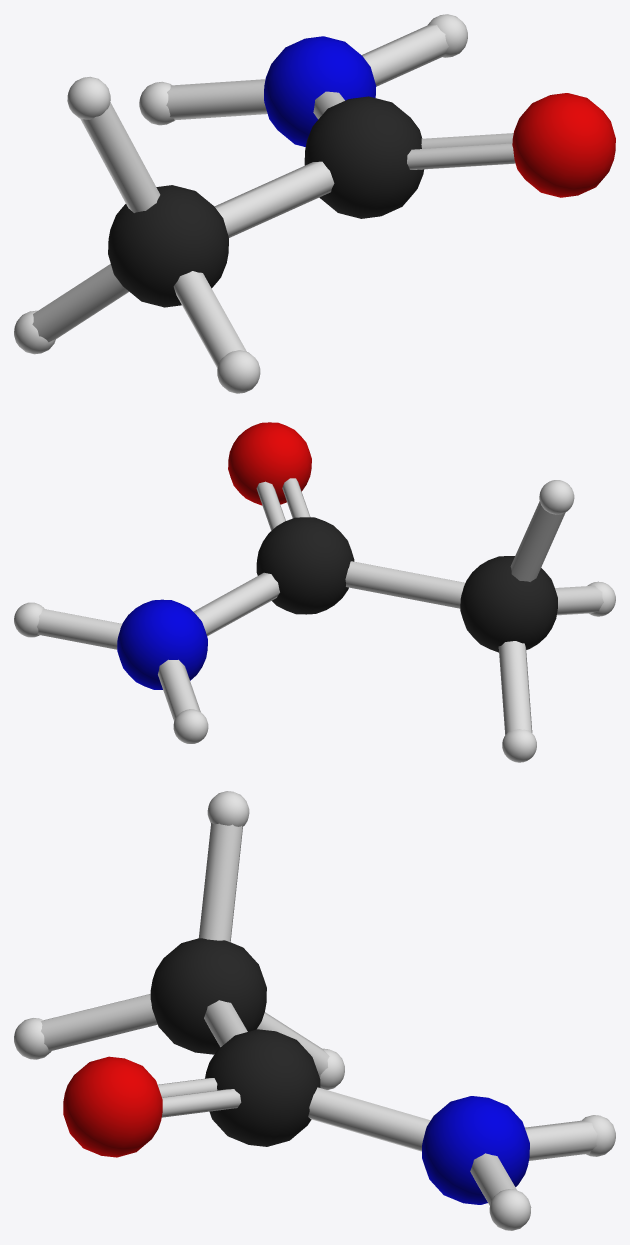
Rendered from Ethanamide.fbx.
3 views of the same model, one above another, from view 1: azimuth 30°, elevation 25°; view 2: azimuth 150°, elevation 25°; view 3: azimuth 270°, elevation 25° (orthographic). The views are drawn at different scales.
Visible parts, largest first — view 1: Group1, Group2, Group3, Group4, Group10, Group14, Group17, Group15, Group16, Group18, Group11, Group7 (+5 smaller); view 2: Group1, Group2, Group4, Group3, Group10, Group15, Group13, Group18, Group14, Group17, Group16, Group5 (+6 smaller); view 3: Group1, Group2, Group4, Group3, Group13, Group14, Group16, Group17, Group12, Group9, Group18, Group5 (+6 smaller).
Boxes of the visible parts, left/top/right/bottom form: Group1: left=304, top=96, right=424, bottom=218; Group2: left=108, top=185, right=228, bottom=307; Group3: left=512, top=93, right=615, bottom=197; Group4: left=264, top=36, right=376, bottom=146; Group10: left=214, top=161, right=334, bottom=237; Group14: left=80, top=102, right=160, bottom=212; Group17: left=166, top=79, right=267, bottom=120; Group15: left=32, top=264, right=129, bottom=342; Group16: left=173, top=271, right=246, bottom=368; Group18: left=361, top=25, right=448, bottom=86; Group11: left=407, top=143, right=515, bottom=169; Group7: left=217, top=350, right=260, bottom=393; Group1: left=256, top=517, right=354, bottom=614; Group2: left=460, top=556, right=557, bottom=652; Group4: left=117, top=599, right=207, bottom=689; Group3: left=228, top=422, right=311, bottom=505; Group10: left=345, top=561, right=465, bottom=608; Group15: left=498, top=641, right=532, bottom=734; Group13: left=193, top=572, right=279, bottom=636; Group18: left=37, top=609, right=122, bottom=649; Group14: left=510, top=501, right=565, bottom=581; Group17: left=158, top=659, right=200, bottom=721; Group16: left=555, top=585, right=603, bottom=615; Group5: left=539, top=480, right=574, bottom=514; Group1: left=205, top=1029, right=320, bottom=1146; Group2: left=150, top=938, right=266, bottom=1054; Group4: left=422, top=1096, right=529, bottom=1204; Group3: left=63, top=1056, right=162, bottom=1157; Group13: left=308, top=1087, right=430, bottom=1151; Group14: left=198, top=823, right=242, bottom=942; Group16: left=41, top=994, right=157, bottom=1051; Group17: left=525, top=1120, right=597, bottom=1160; Group12: left=161, top=1089, right=241, bottom=1117; Group9: left=489, top=1189, right=531, bottom=1230; Group18: left=470, top=1153, right=516, bottom=1205; Group5: left=207, top=791, right=249, bottom=826.
Bounding box in the file's own units: 281 × 153 × 280.
